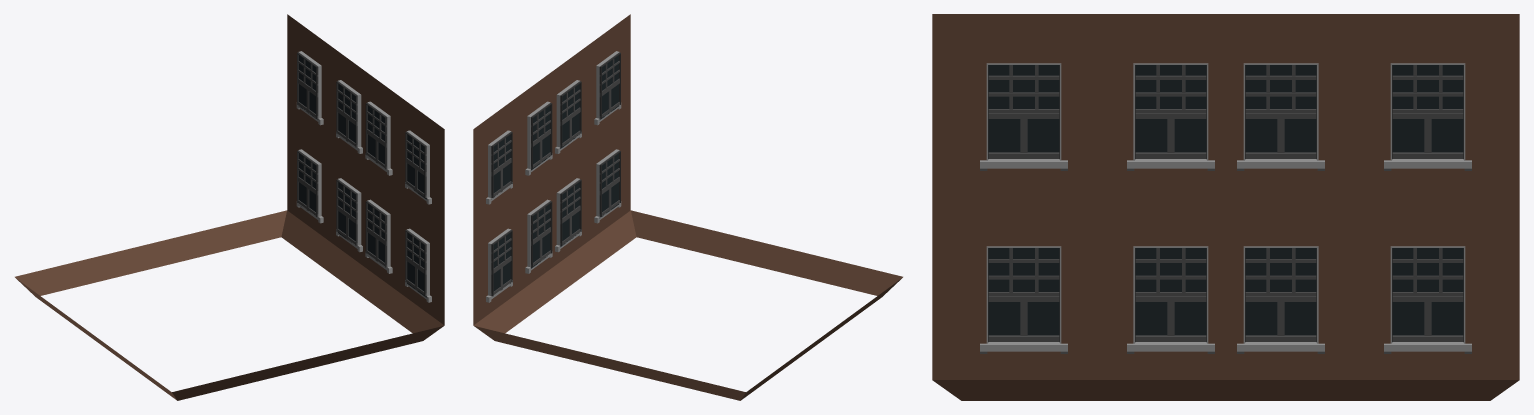
The model's file is Building4_Side.fbx.
The picture shows the model from 3 angles, left to right: view 1: azimuth 30°, elevation 25°; view 2: azimuth 150°, elevation 25°; view 3: azimuth 270°, elevation 25°; orthographic projection. The views are drawn at different scales.
Parts seen in each view (by area): view 1: Cube.002; view 2: Cube.002; view 3: Cube.002.
Boxes of the visible parts, left/top/right/bottom form: Cube.002: left=15, top=14, right=444, bottom=400; Cube.002: left=473, top=14, right=902, bottom=400; Cube.002: left=932, top=14, right=1519, bottom=400.
Size of the model in its own units: 1610 by 1200 by 1600.
